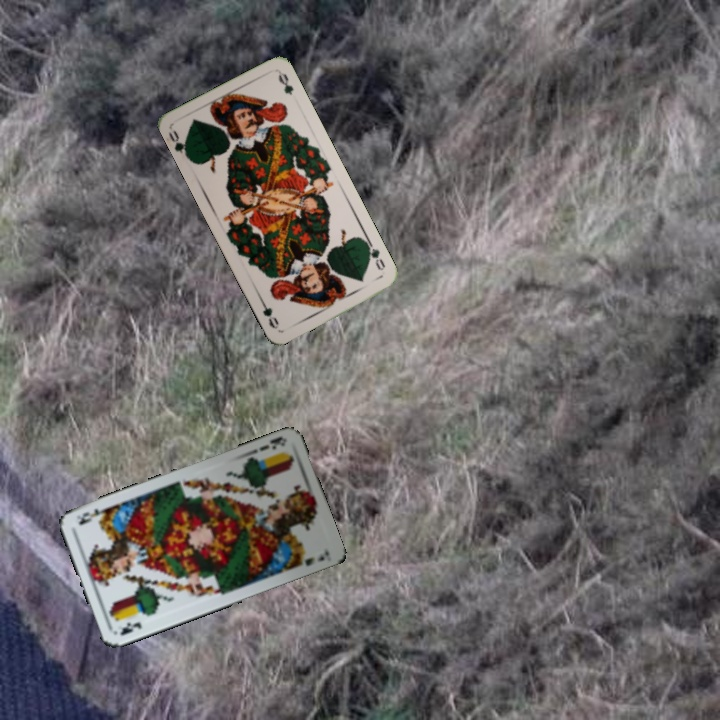EK: (256, 433, 288, 454), (116, 618, 144, 638)
GO: (164, 126, 193, 163), (362, 237, 388, 273)
